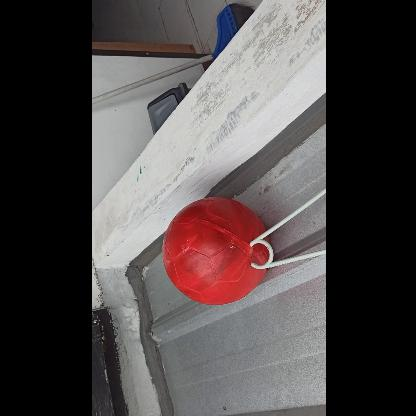red_ball: (160, 198, 267, 306)
